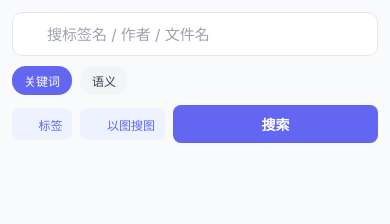
Scenario: SearchScreen（M3） › 语义检索失败时提示模型未就绪
Expected: the text "语义" is shown, [92,72,116,89]
Step 1. Click the element with test id "mode-semantic" → (104, 80), box [80,66,128,95]
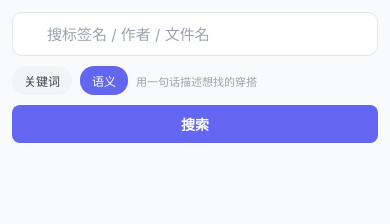
Step 2. Type "通勤" into the field with placeholder "搜标签名 / 作者 / 文件名" → (206, 34), box [47,24,365,44]
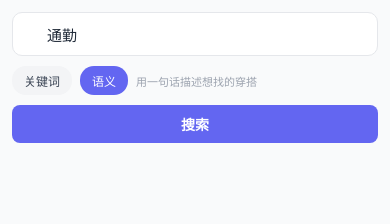
Step 3. Click the text "搜索" → (195, 124), box [181,114,209,134]
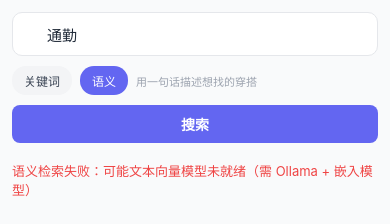
Expected: the text "语义检索失败：可能文本向量模型未就绪（需 Ollama + 嵌入模型）" is shown, [0,153,389,207]
